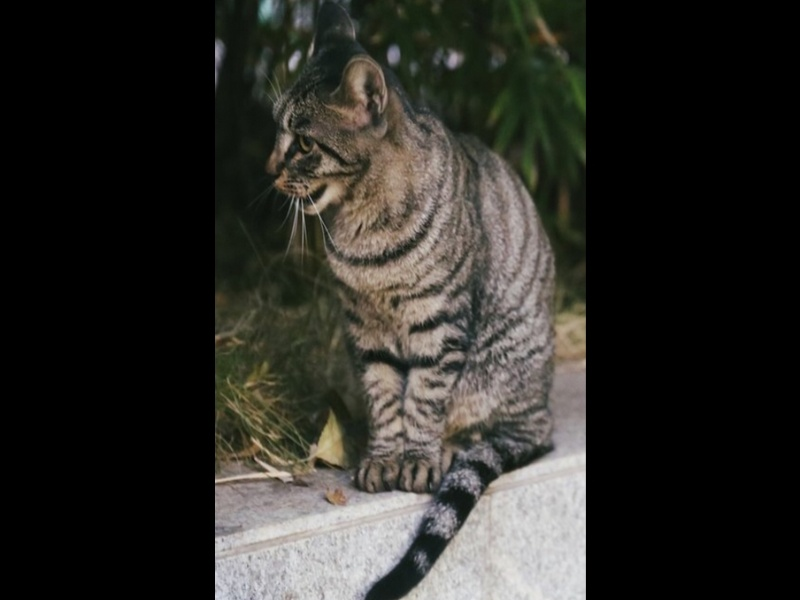cat: (268, 5, 560, 600)
